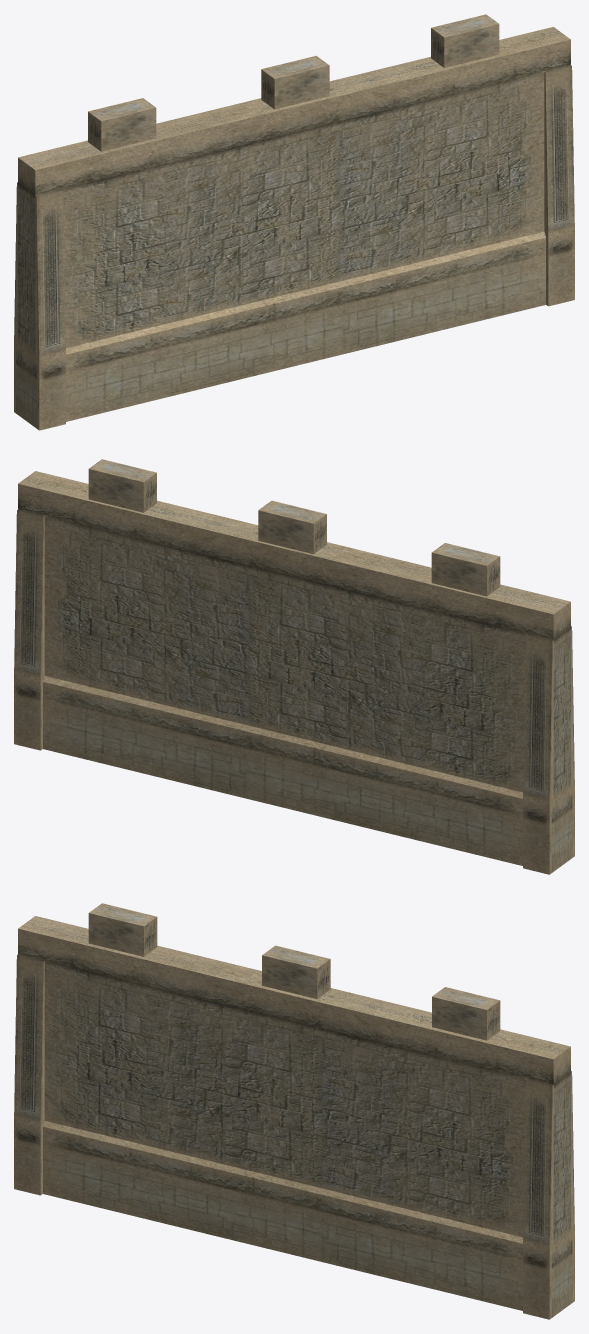
Rendered from desert-bigdam-06.fbx.
3 views of the same model, one above another, from view 1: azimuth 30°, elevation 25°; view 2: azimuth 150°, elevation 25°; view 3: azimuth 330°, elevation 25° (orthographic).
Visible parts, largest first — view 1: desert-bigdam-01; view 2: desert-bigdam-01; view 3: desert-bigdam-01.
Boxes of the visible parts, left/top/right/bottom form: desert-bigdam-01: left=14, top=14, right=574, bottom=430; desert-bigdam-01: left=14, top=459, right=574, bottom=874; desert-bigdam-01: left=14, top=903, right=574, bottom=1319.
Size of the model in its own units: 10.01 by 5.14 by 0.8224.
